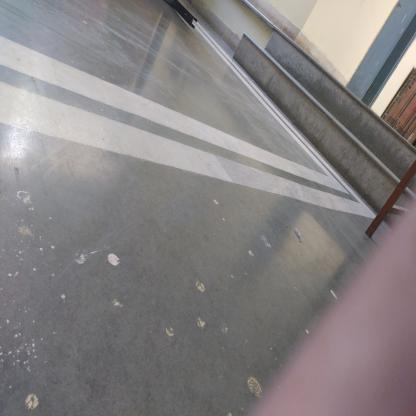stairs: (333, 99, 390, 184)
